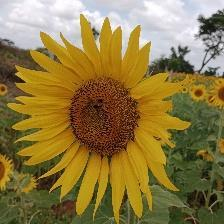sunflower: (29, 31, 184, 212)
